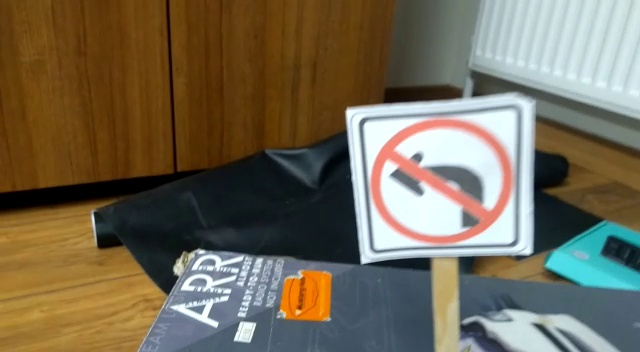sola_donulmez: (370, 106, 522, 252)
